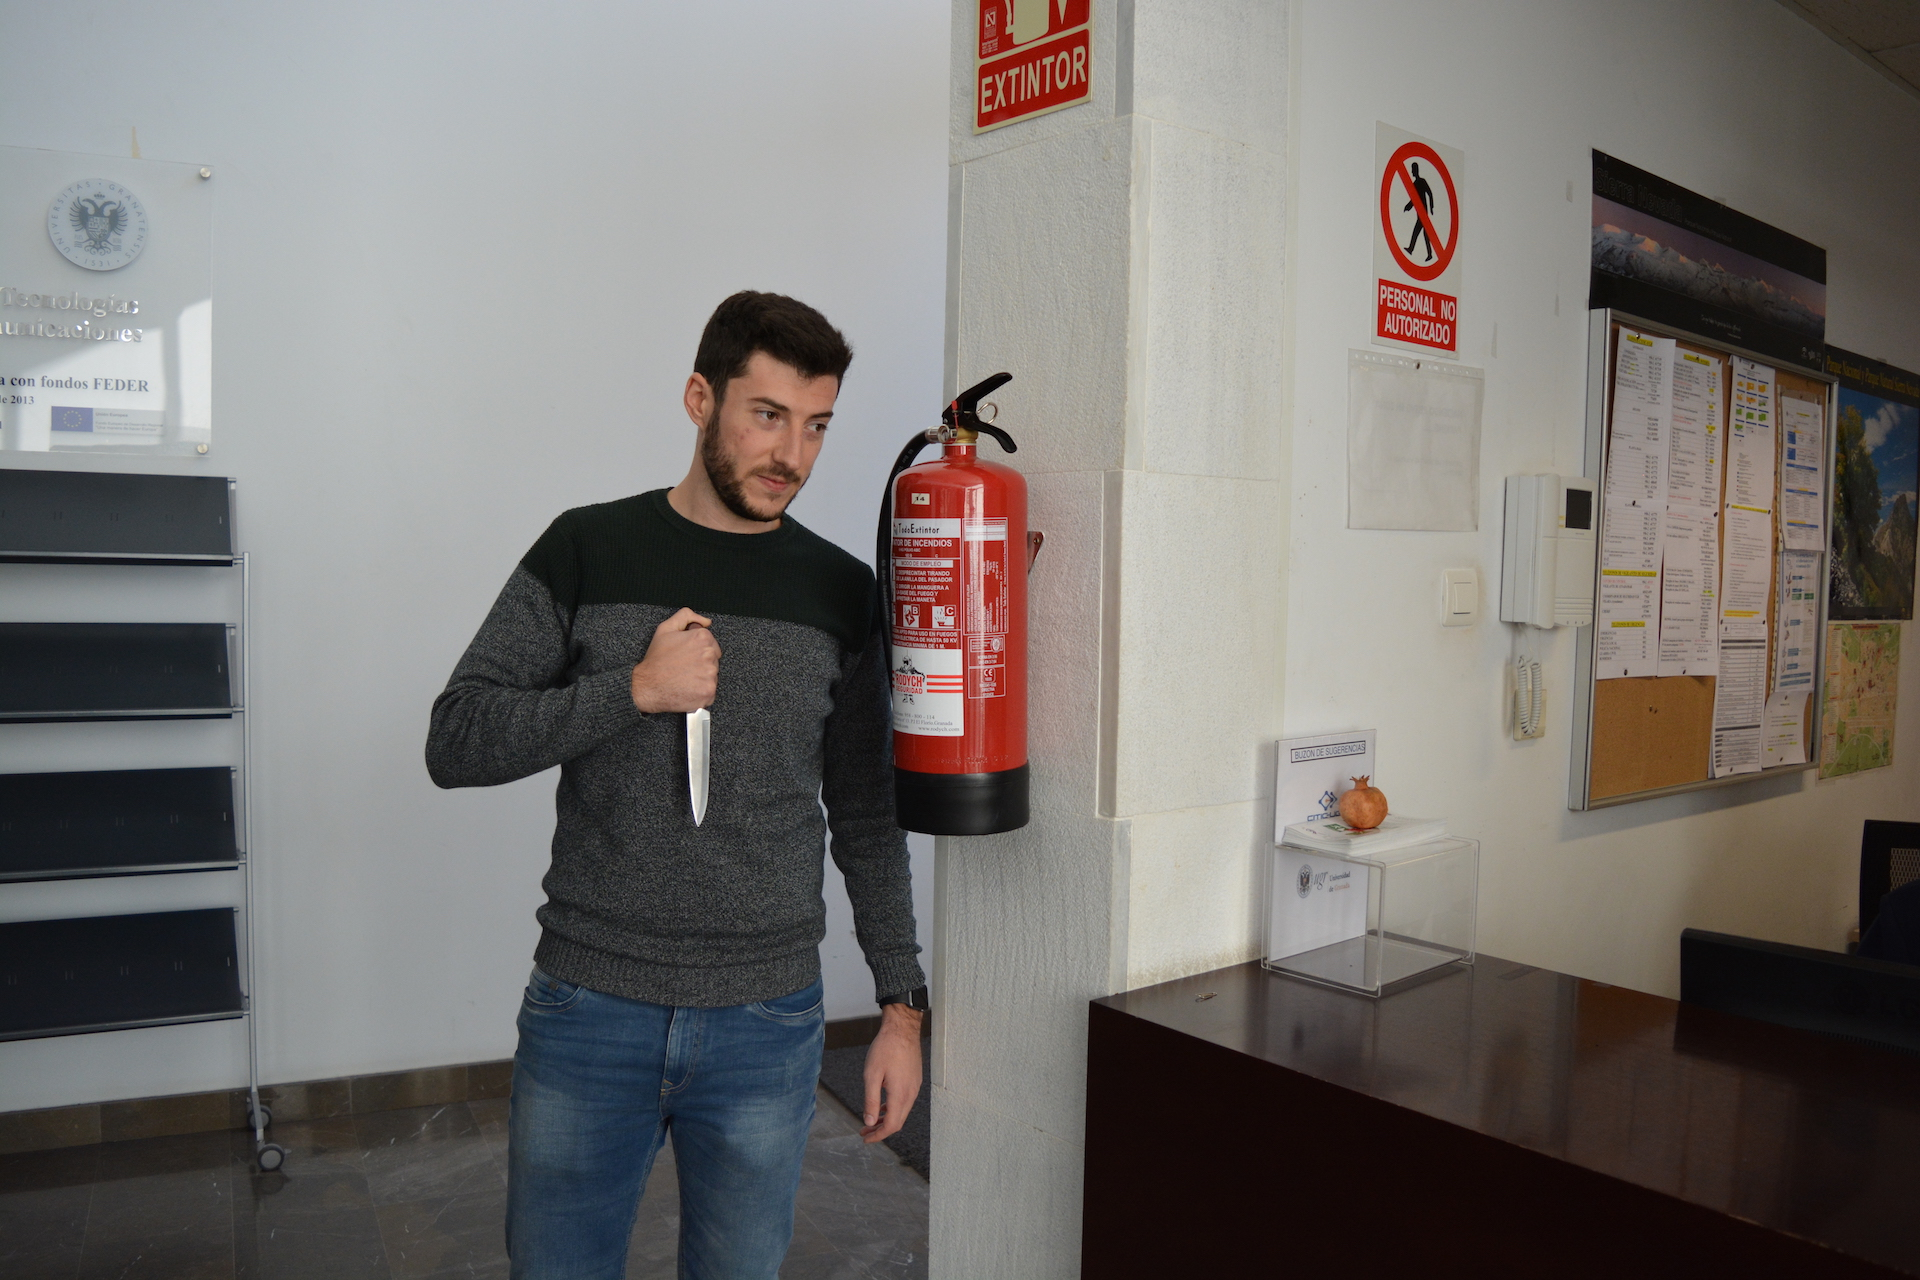knife: (673, 614, 726, 834)
